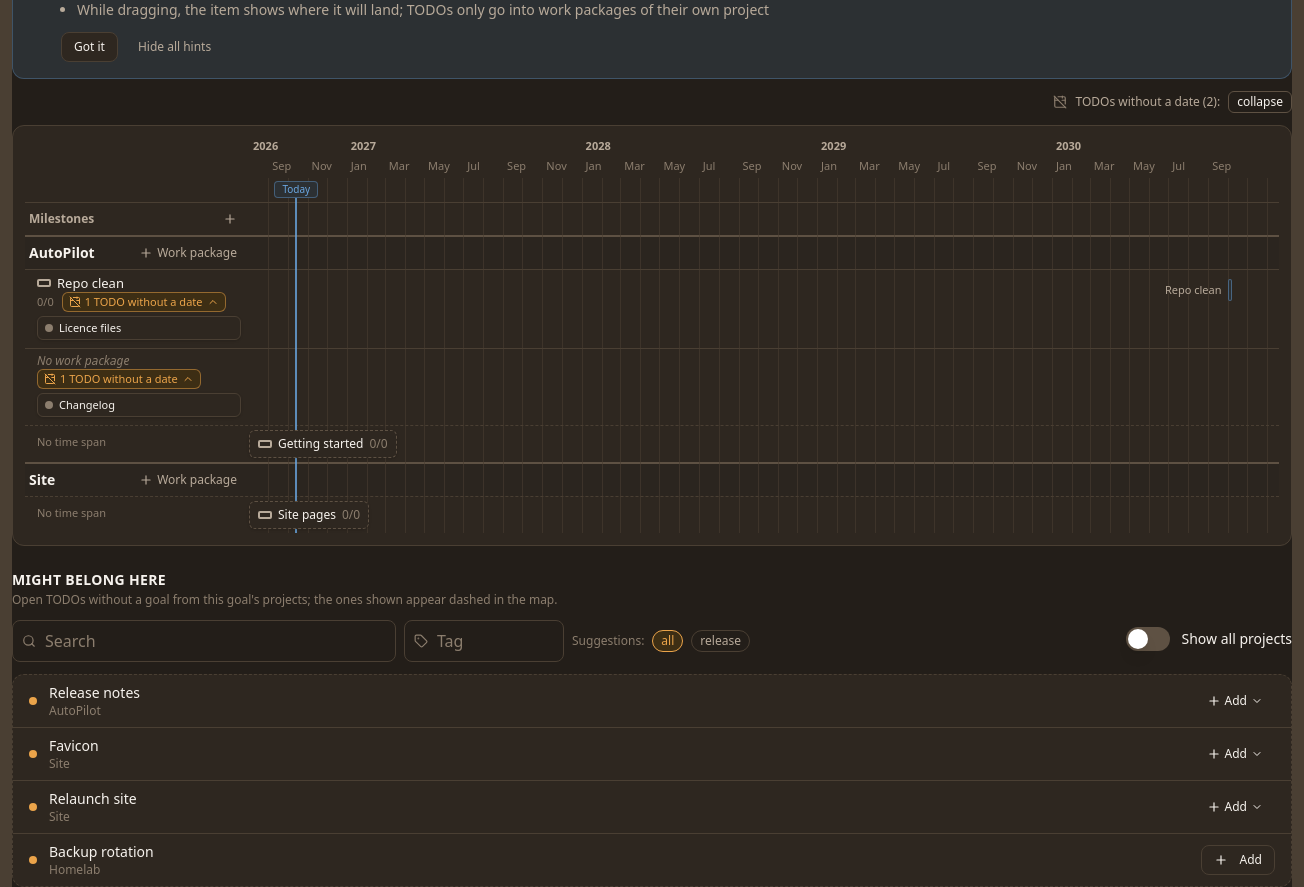
Scenario: “Show” after adding › in the timeline opens a package without a time span in its tray
(page scrolled)
Step 1. Click the button with aria-label "Add: Release notes" → (1235, 701), box [1195, 687, 1275, 715]
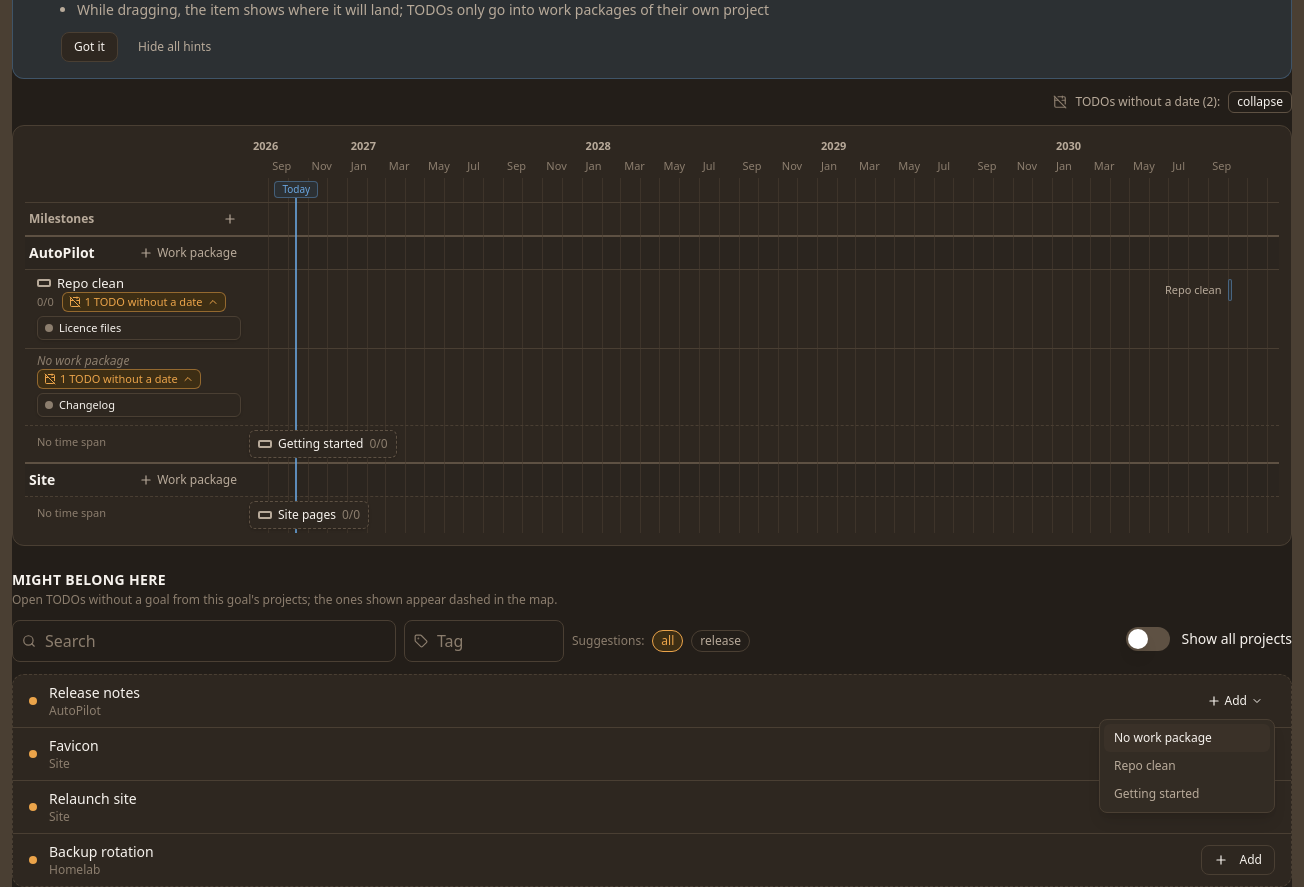
Step 2. Click the menu item "Getting started" → (1187, 794), box [1104, 780, 1270, 808]
(page scrolled)
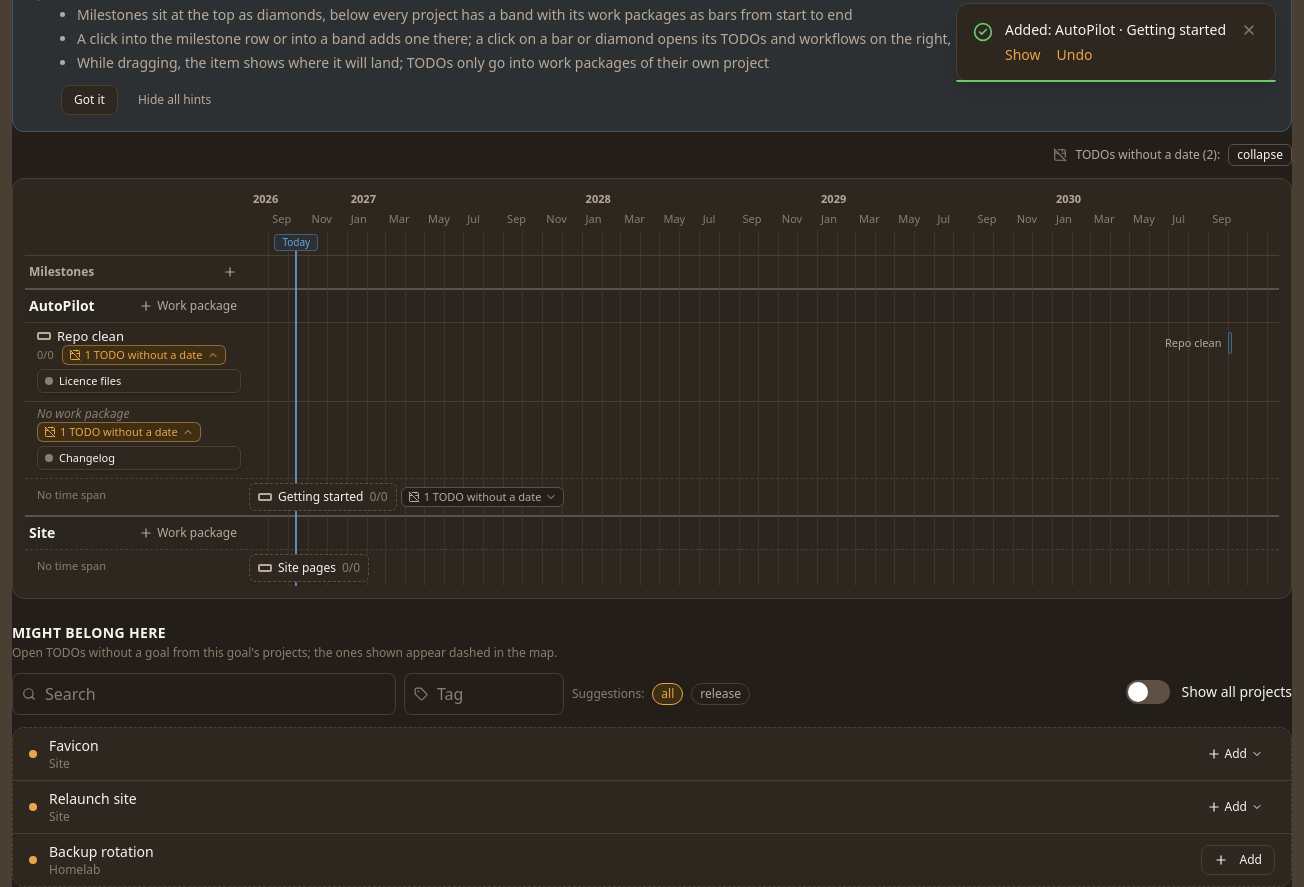
Step 3. Click the button "Show" → (1023, 55), box [1005, 45, 1040, 65]
(page scrolled)
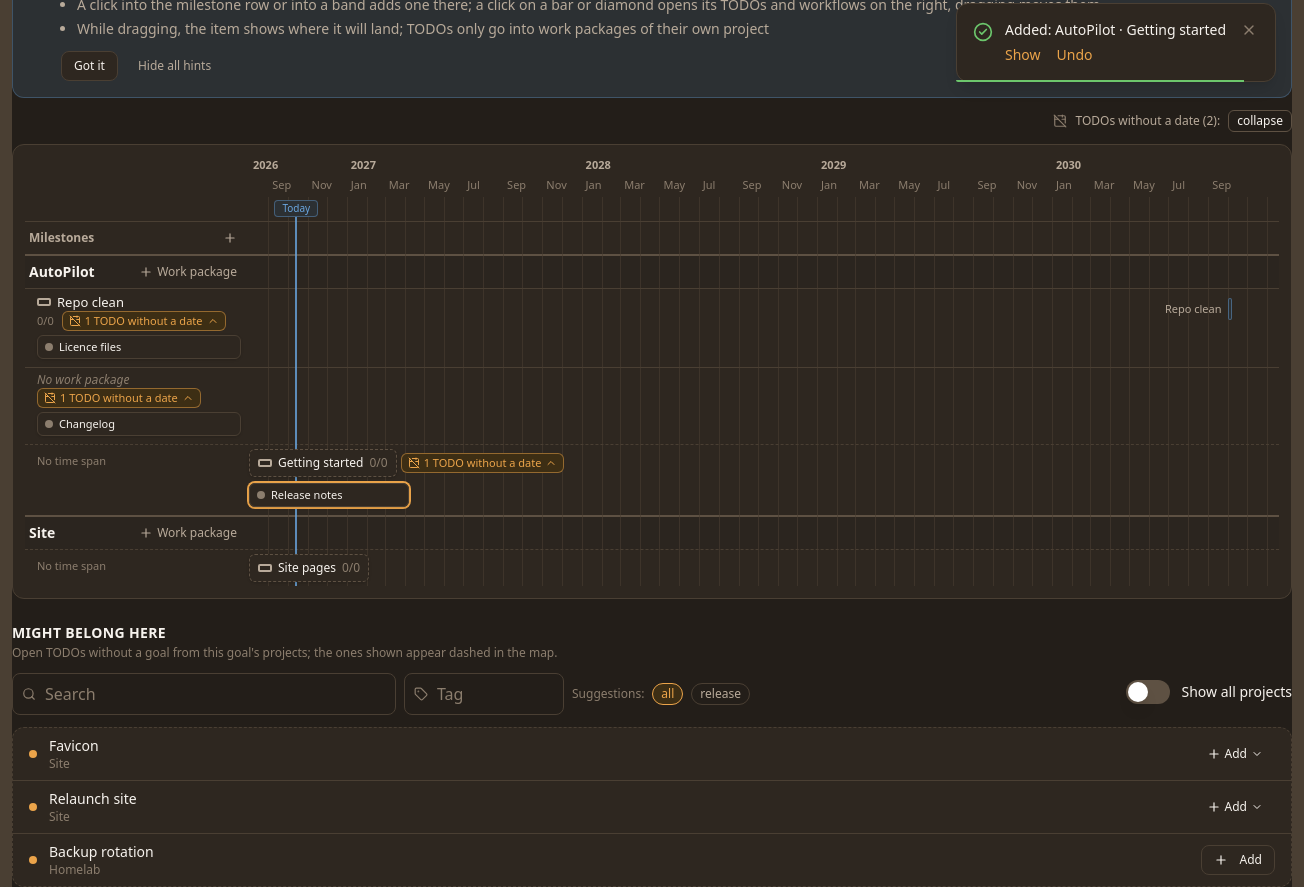
Check: the 3rd button "1 TODO without a date" is expanded, box [401, 453, 564, 473]
Check: the button with aria-label "Release notes – no due date" is shown, box [249, 483, 409, 507]
